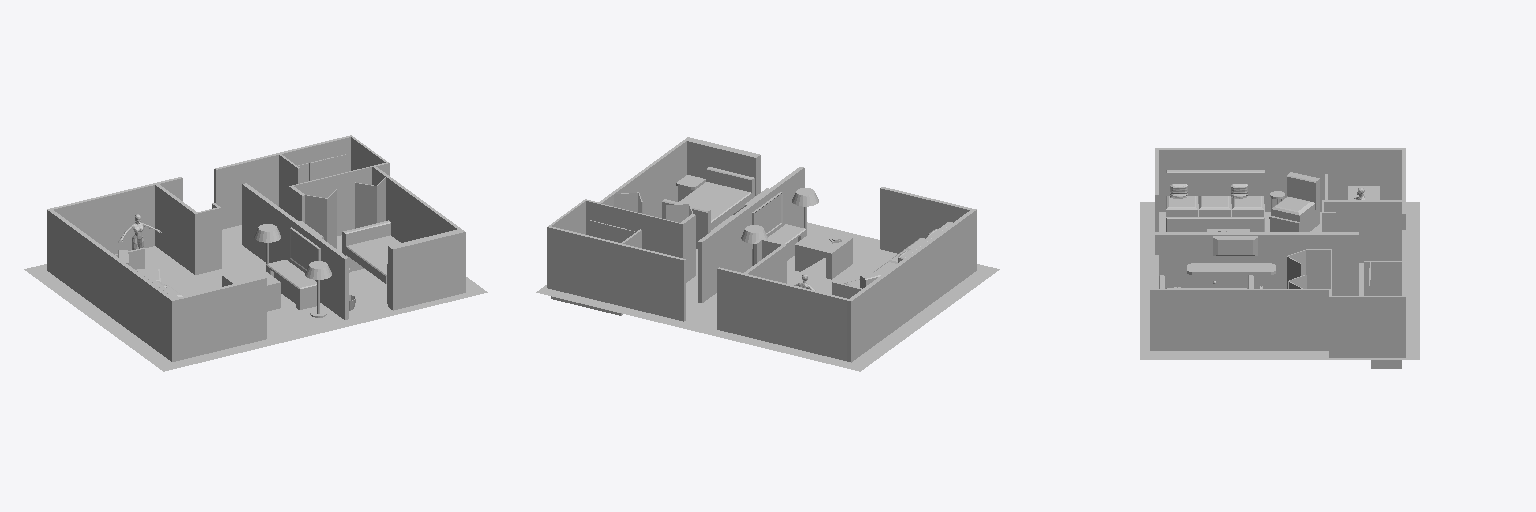
The model's file is 1br_room.obj.
3 views of the same model, side by side, from view 1: azimuth 30°, elevation 25°; view 2: azimuth 150°, elevation 25°; view 3: azimuth 270°, elevation 25° (orthographic).
Parts seen in each view (by area): view 1: pCube2, pPlane5, pCube18, bed pCube3, Bedroom_closet_doors pCube15, pCube23, bed pCube5, pCube19, pCube13 Bedroom_closet_doors, pPlane6 polySurface2; view 2: pCube2, pPlane5, pCube23, bed pCube3, pCube19, pCube4 bed, pCube18, bed pCube5; view 3: pCube2, pPlane5, pCube17, pCube7 dresser_bedroom, pCube26, pCube31, pCube30, pCube28, pCube29, pCube27.
Part boxes in pixels (bbox=[...]): pCube2: bbox=[47, 135, 465, 361]; pPlane5: bbox=[24, 225, 487, 371]; pCube18: bbox=[266, 260, 316, 309]; bed pCube3: bbox=[346, 235, 400, 283]; Bedroom_closet_doors pCube15: bbox=[355, 182, 377, 228]; pCube23: bbox=[222, 267, 280, 311]; bed pCube5: bbox=[342, 220, 390, 271]; pCube19: bbox=[290, 227, 320, 270]; pCube13 Bedroom_closet_doors: bbox=[305, 195, 327, 241]; pPlane6 polySurface2: bbox=[309, 154, 345, 180]; pCube2: bbox=[547, 137, 976, 362]; pPlane5: bbox=[536, 215, 999, 371]; pCube23: bbox=[795, 229, 852, 279]; bed pCube3: bbox=[679, 182, 751, 229]; pCube19: bbox=[752, 192, 782, 233]; pCube4 bed: bbox=[707, 167, 754, 214]; pCube18: bbox=[752, 224, 806, 265]; bed pCube5: bbox=[662, 199, 710, 248]; pCube2: bbox=[1150, 148, 1405, 357]; pPlane5: bbox=[1140, 202, 1419, 359]; pCube17: bbox=[1166, 170, 1264, 231]; pCube7 dresser_bedroom: bbox=[1187, 263, 1275, 288]; pCube26: bbox=[1270, 172, 1319, 231]; pCube31: bbox=[1213, 236, 1257, 255]; pCube30: bbox=[1271, 196, 1314, 221]; pCube28: bbox=[1199, 196, 1230, 216]; pCube29: bbox=[1232, 196, 1263, 216]; pCube27: bbox=[1166, 196, 1197, 216].
Size of the model in its own units: 221 by 47.41 by 165.